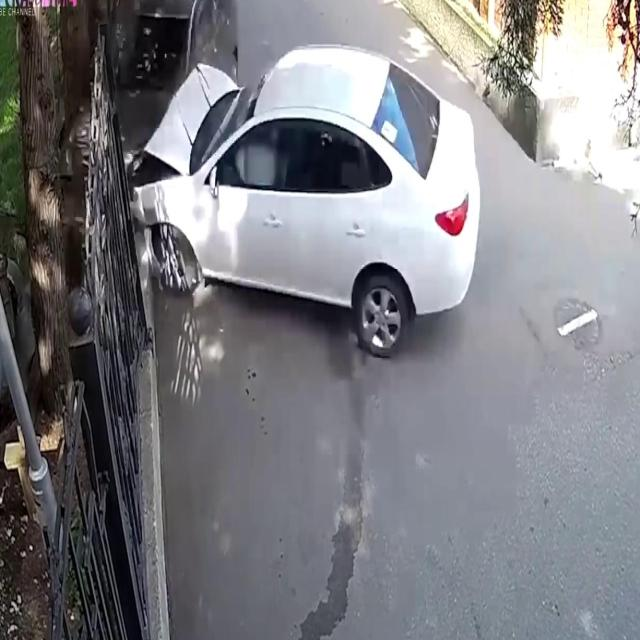accident: (107, 0, 491, 371)
